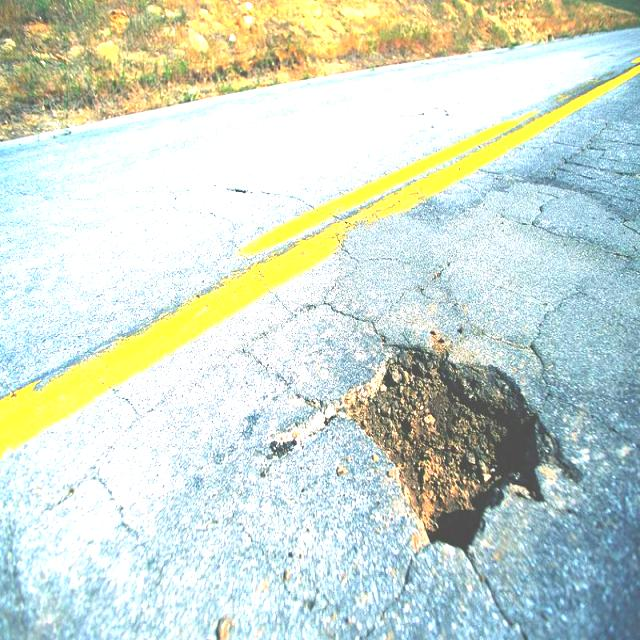Pothole: (268, 315, 584, 555)
